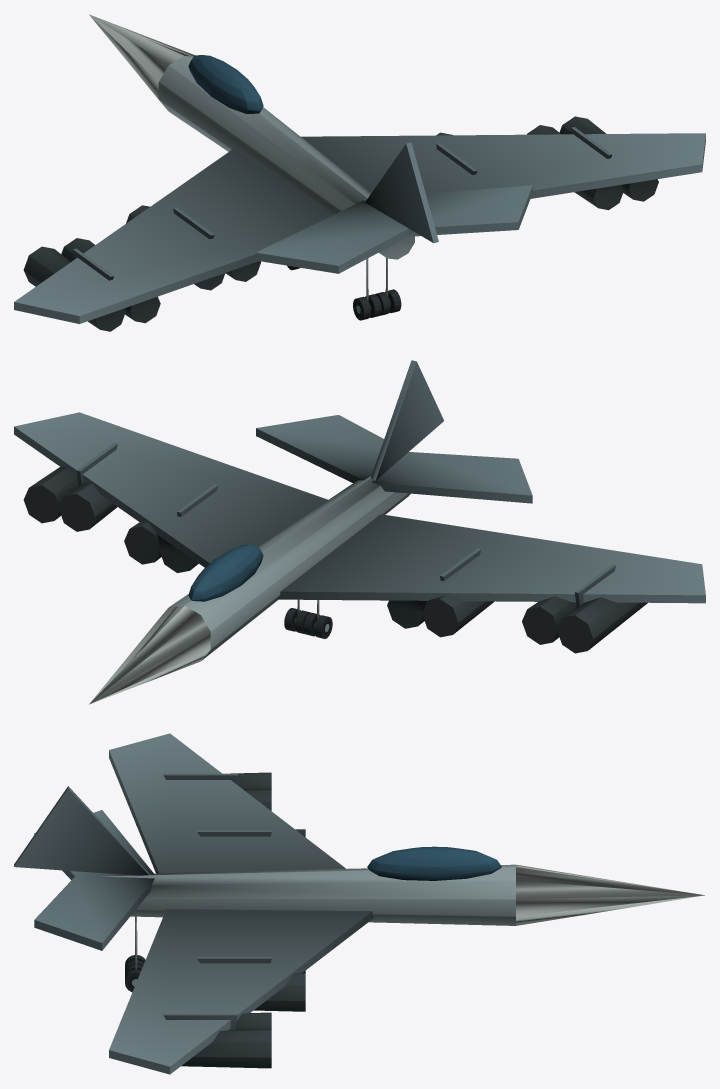
3 renders of one model, top to bottom at view 1: azimuth 30°, elevation 25°; view 2: azimuth 150°, elevation 25°; view 3: azimuth 270°, elevation 25°, orthographic.
Parts seen in each view (by area): view 1: wing.001, wing, fuselage, tailplane, tailplane.001, fin, nose, canopy, nacelle.006, nacelle.007, nacelle.004, nacelle.005; view 2: wing.001, wing, fuselage, tailplane, tailplane.001, nose, fin, nacelle.006, canopy, nacelle.007, nacelle.002, nacelle.005 (+4 smaller); view 3: wing, wing.001, fuselage, fin, nose, tailplane.001, canopy, nacelle.007, nacelle.003, tailplane, nacelle.005, nacelle.006 (+1 smaller).
Boxes of the visible parts, box(x1,y1,x2,y2) form: wing.001: box(14, 148, 331, 323); wing: box(301, 133, 705, 198); fuselage: box(158, 56, 414, 259); tailplane: box(256, 200, 407, 273); tailplane.001: box(404, 185, 532, 236); fin: box(365, 142, 438, 243); nose: box(89, 14, 195, 98); canopy: box(188, 55, 263, 113); nacelle.006: box(23, 246, 125, 331); nacelle.007: box(559, 116, 658, 201); nacelle.004: box(61, 238, 160, 323); nacelle.005: box(527, 125, 623, 210); wing.001: box(276, 514, 705, 603); wing: box(14, 412, 327, 567); fuselage: box(169, 476, 410, 660); tailplane: box(372, 452, 532, 503); tailplane.001: box(256, 415, 383, 482); nose: box(89, 605, 210, 704); fin: box(371, 360, 443, 480); nacelle.006: box(557, 597, 647, 653); canopy: box(188, 544, 263, 601); nacelle.007: box(23, 467, 78, 523); nacelle.002: box(422, 595, 494, 637); nacelle.005: box(58, 483, 117, 531); wing: box(109, 909, 374, 1074); wing.001: box(109, 733, 345, 873); fuselage: box(100, 864, 515, 925); fin: box(14, 786, 149, 875); nose: box(516, 864, 704, 925); tailplane.001: box(34, 876, 154, 950); canopy: box(367, 846, 501, 880); nacelle.007: box(181, 1029, 271, 1068); nacelle.003: box(254, 972, 305, 1011); tailplane: box(34, 810, 154, 880); nacelle.005: box(235, 1012, 271, 1030); nacelle.006: box(231, 772, 271, 789).
Bounding box in the file's own units: 56.4 × 15.44 × 49.47.
